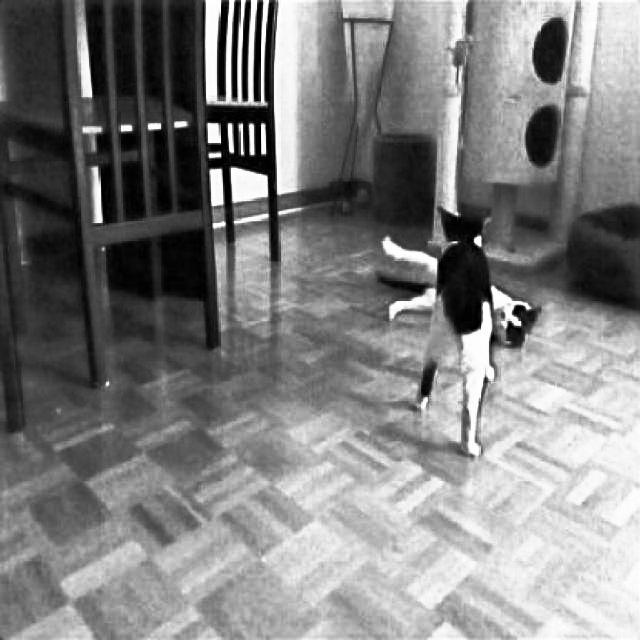Cat: (412, 203, 497, 462), (379, 232, 544, 351)
